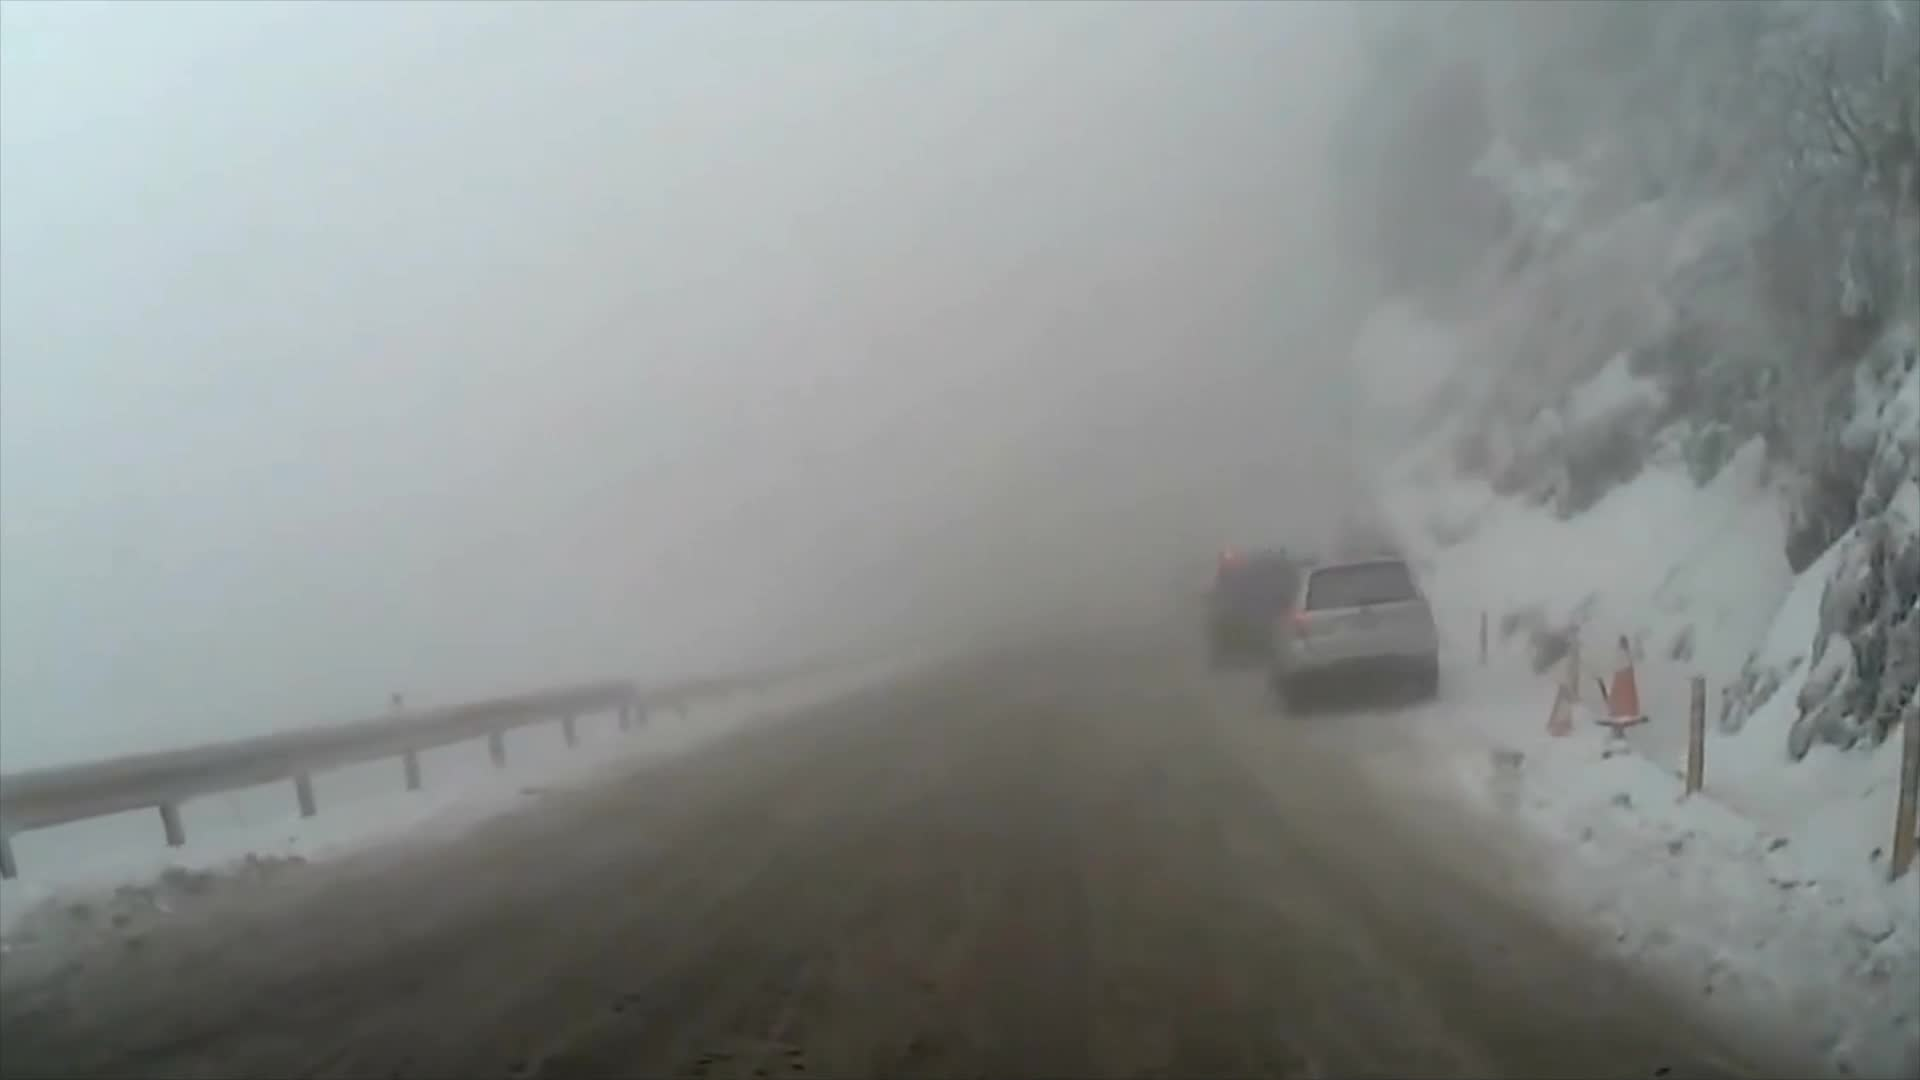vehicle: (1269, 545, 1439, 712), (1201, 545, 1325, 680)
